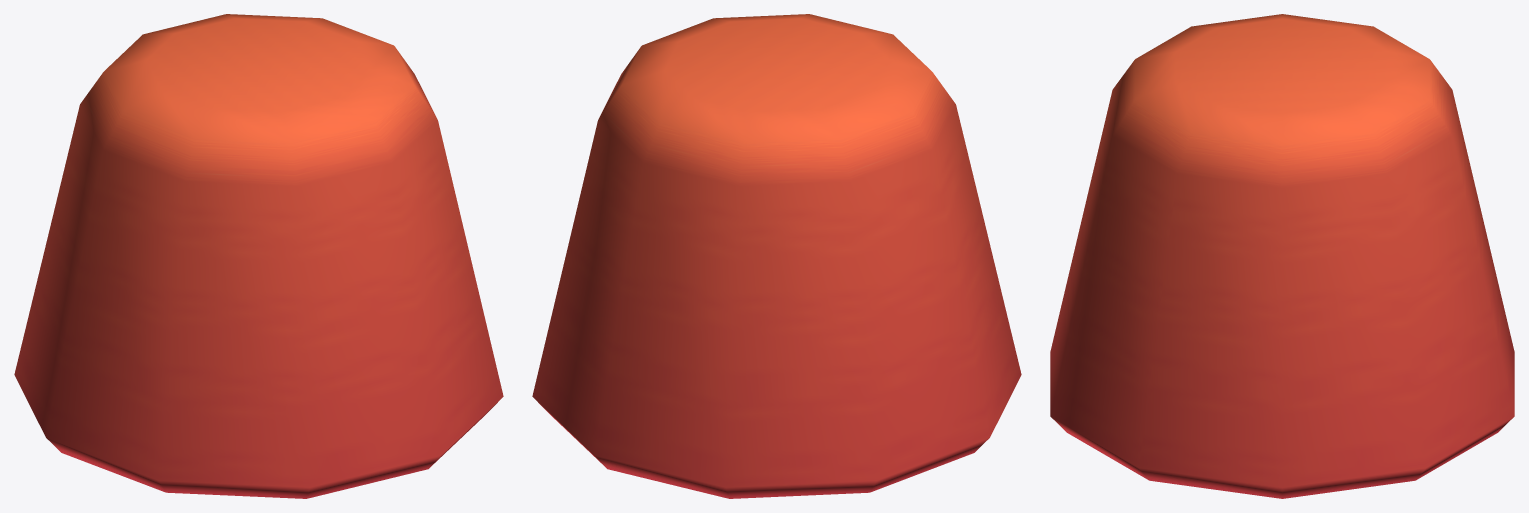
Rendered from SM_GUMDROP_RED.fbx.
3 views of the same model, side by side, from view 1: azimuth 30°, elevation 25°; view 2: azimuth 150°, elevation 25°; view 3: azimuth 270°, elevation 25° (orthographic).
Visible parts, largest first — view 1: GUMDROP_RED; view 2: GUMDROP_RED; view 3: GUMDROP_RED.
Part boxes in pixels (<box>): GUMDROP_RED: <box>14,14,503,498</box>; GUMDROP_RED: <box>532,14,1021,498</box>; GUMDROP_RED: <box>1050,14,1514,498</box>.
Bounding box in the file's own units: 51.97 × 39.55 × 49.43.
1 material, 1 textured.
